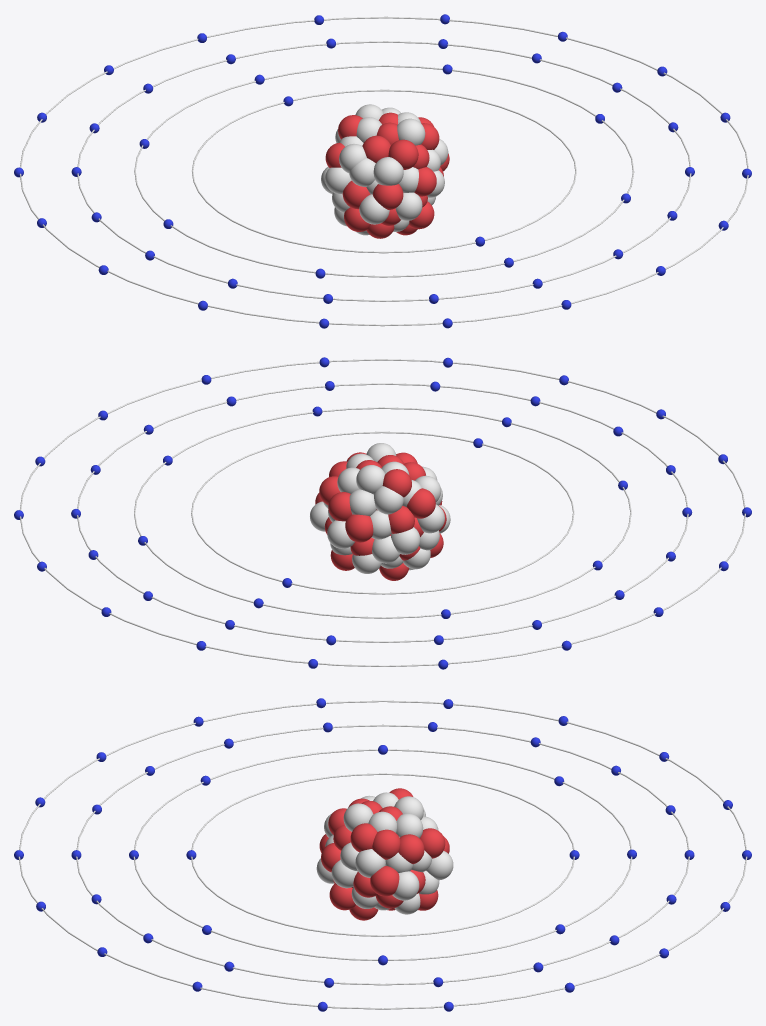
The model's file is Palladium.glb.
3 renders of one model, top to bottom at view 1: azimuth 30°, elevation 25°; view 2: azimuth 150°, elevation 25°; view 3: azimuth 270°, elevation 25°, orthographic.
Parts seen in each view (by area): view 1: N-Schale, M-Schale, L-Schale, K-Schale, Neutron 45, Proton 37, Proton 11, Neutron 5, Neutron 54, Neutron 25, Proton 24, Neutron 14 (+2 smaller); view 2: N-Schale, M-Schale, L-Schale, K-Schale, Proton 40, Neutron 59, Proton 45, Neutron 53, Neutron 52, Proton 44, Neutron 35, Proton 41 (+3 smaller); view 3: N-Schale, M-Schale, L-Schale, K-Schale, Proton 38, Proton 42, Neutron 48, Proton 46, Proton 36, Neutron 54, Neutron 55, Proton 41 (+2 smaller).
Part boxes in pixels (box(x1,y1,x2,y2)): N-Schale: box(19, 16, 748, 326); M-Schale: box(77, 41, 691, 301); L-Schale: box(134, 65, 634, 277); K-Schale: box(192, 89, 576, 253); Neutron 45: box(373, 157, 403, 185); Proton 37: box(388, 139, 418, 169); Proton 11: box(372, 184, 403, 209); Neutron 5: box(359, 194, 389, 224); Neutron 54: box(397, 118, 425, 145); Neutron 25: box(395, 192, 422, 220); Proton 24: box(362, 135, 390, 162); Neutron 14: box(349, 158, 375, 186); N-Schale: box(20, 359, 745, 666); M-Schale: box(77, 383, 688, 642); L-Schale: box(134, 407, 631, 618); K-Schale: box(191, 431, 574, 594); Proton 40: box(345, 514, 373, 542); Neutron 59: box(356, 465, 385, 494); Proton 45: box(406, 488, 435, 518); Neutron 53: box(374, 486, 403, 514); Neutron 52: box(349, 489, 376, 516); Proton 44: box(382, 469, 411, 497); Neutron 35: box(391, 527, 420, 554); Proton 41: box(328, 492, 352, 521); N-Schale: box(18, 700, 747, 1009); M-Schale: box(76, 724, 689, 985); L-Schale: box(133, 749, 632, 960); K-Schale: box(191, 773, 574, 936); Proton 38: box(370, 866, 399, 896); Proton 42: box(372, 829, 400, 859); Neutron 48: box(355, 849, 385, 877); Proton 46: box(398, 834, 424, 864); Proton 36: box(350, 823, 377, 852); Neutron 54: box(343, 803, 373, 831); Neutron 55: box(392, 871, 419, 900); Proton 41: box(420, 828, 445, 858).
Size of the model in its own units: 19.04 by 3.35 by 19.26.
